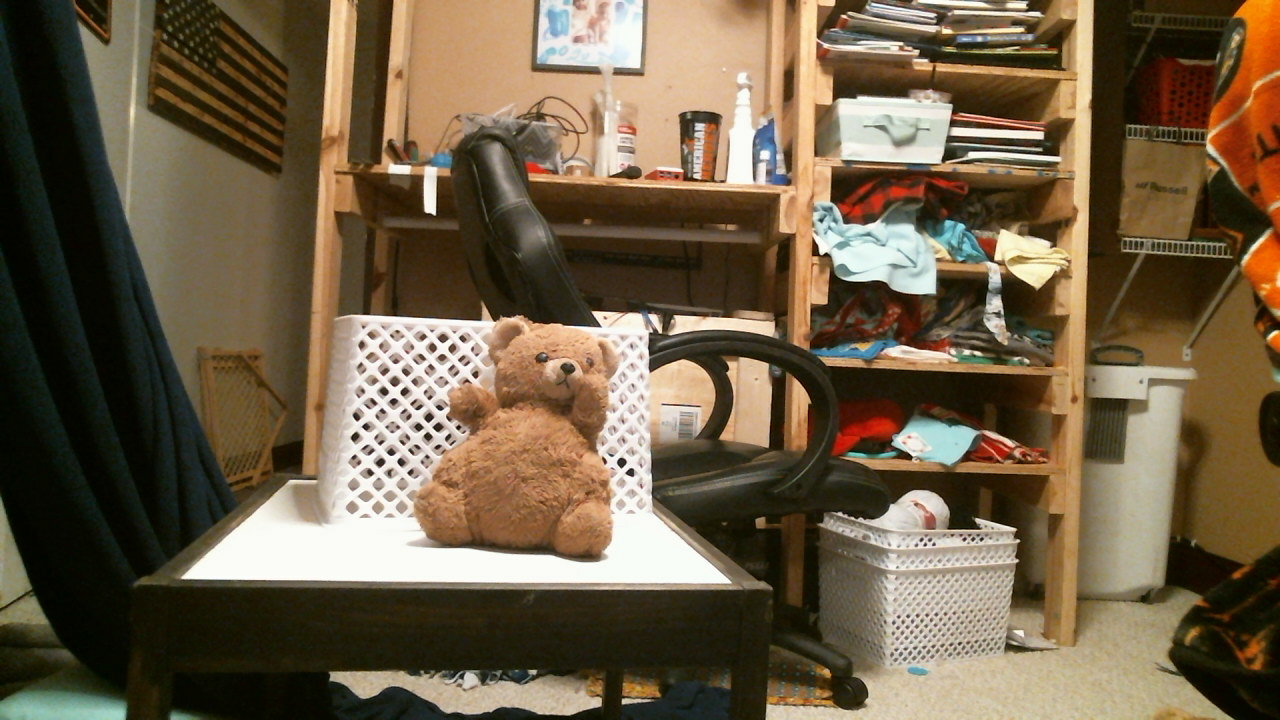Little_Mister_Bear: (528, 344, 613, 415)
